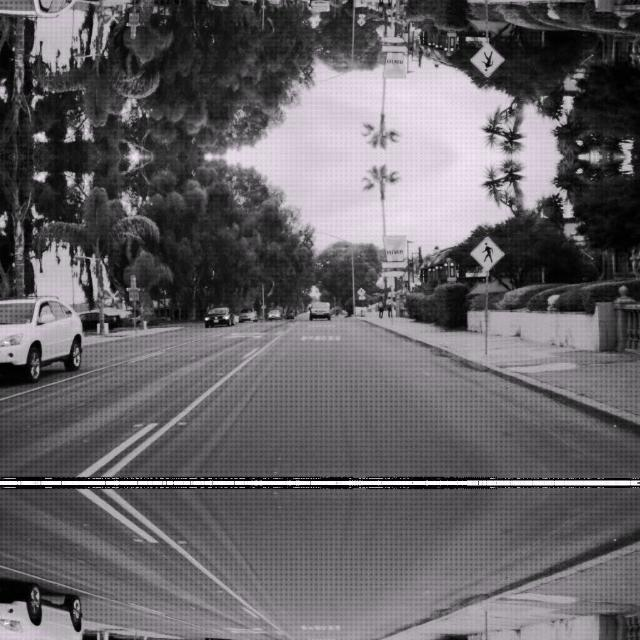pedestrianCrossing: (470, 234, 504, 270), (470, 42, 504, 78)
